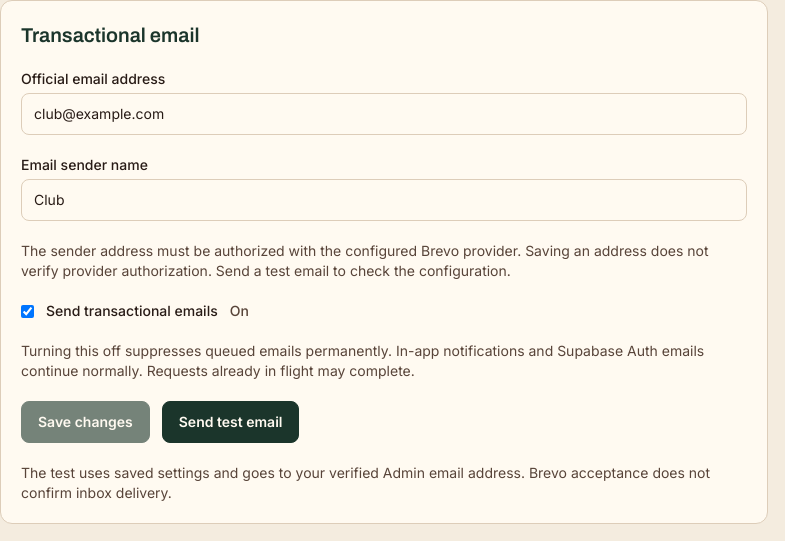
Test: labels a pending test and blocks every action until it settles
Click the button "Send test email" at (231,422), box left=162, top=401, right=300, bottom=443
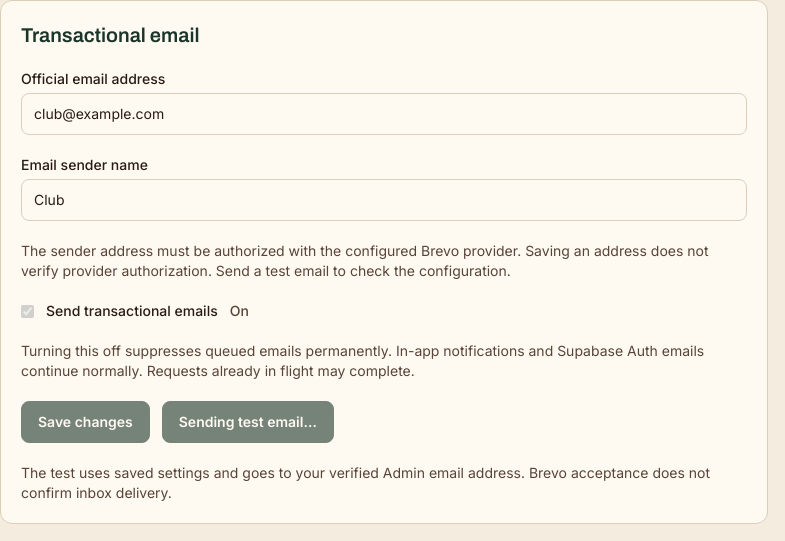
Expected: the button "Sending test email…" is disabled, left=162, top=401, right=334, bottom=443
Submit the form
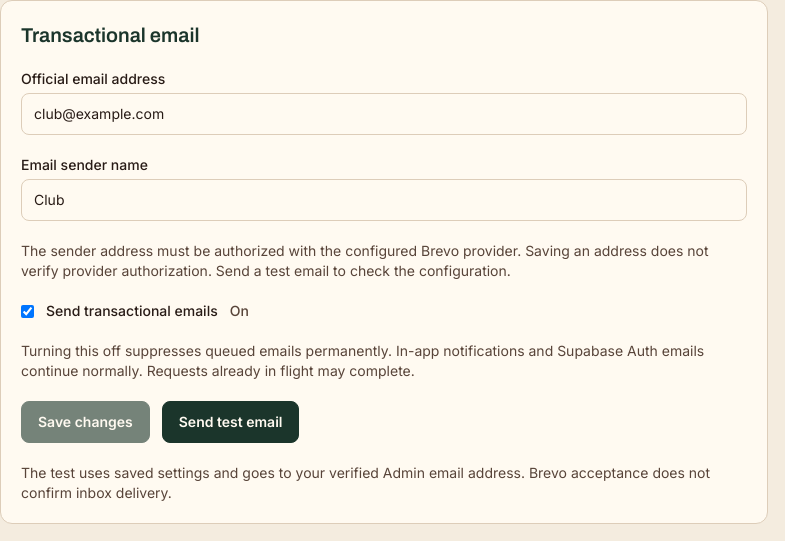
Expected: the button "Send test email" is shown, left=162, top=401, right=300, bottom=443
Expected: the button "Sending test email…" is gone
